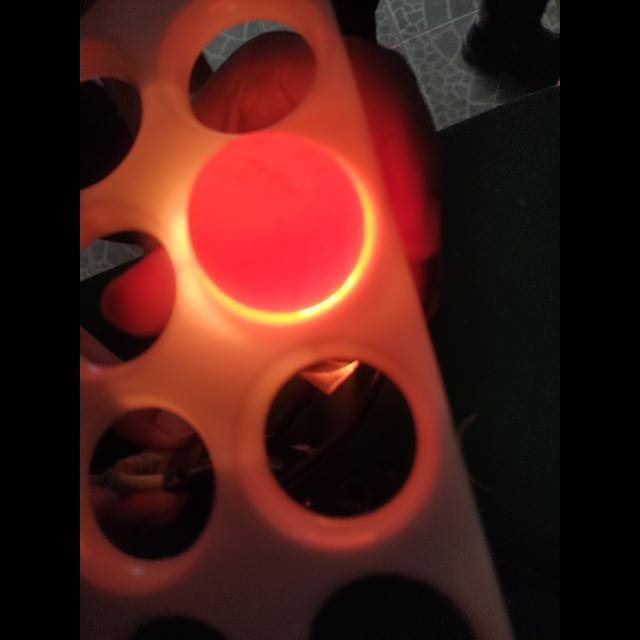Infertile: (178, 132, 362, 304)
